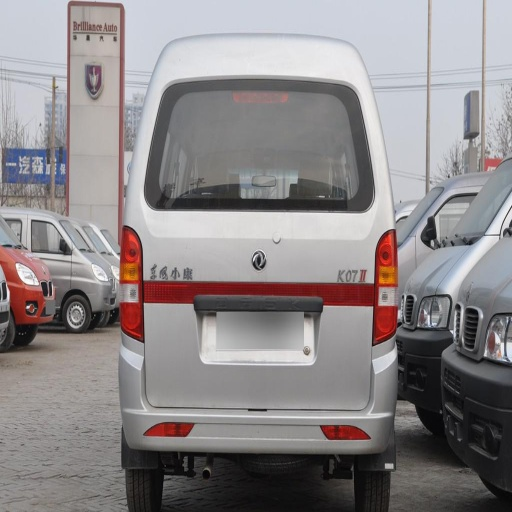back_bumper: (122, 336, 404, 455)
back_right_light: (374, 233, 401, 344)
tailgate: (188, 210, 353, 308)
trunk: (123, 211, 370, 404), (398, 258, 452, 315)
